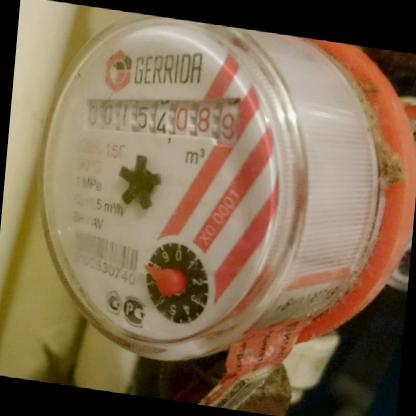digital_screen: (81, 88, 176, 144)
